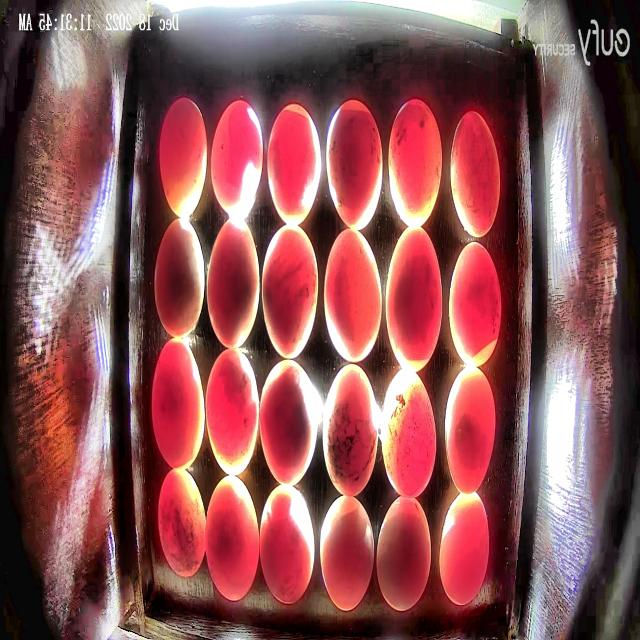FE: (385, 226, 443, 374), (262, 223, 320, 361), (324, 228, 382, 362), (326, 97, 384, 230), (322, 363, 379, 498), (258, 360, 318, 486), (381, 367, 437, 499), (151, 337, 206, 470), (388, 97, 443, 228), (207, 216, 260, 350), (206, 348, 260, 477), (259, 482, 315, 606), (205, 474, 259, 601), (267, 104, 322, 227), (444, 364, 495, 496), (448, 242, 501, 368), (210, 99, 264, 220), (376, 494, 432, 610), (450, 109, 500, 237), (319, 496, 375, 610), (154, 216, 206, 338), (438, 491, 490, 606), (160, 96, 208, 218), (158, 468, 206, 580)
